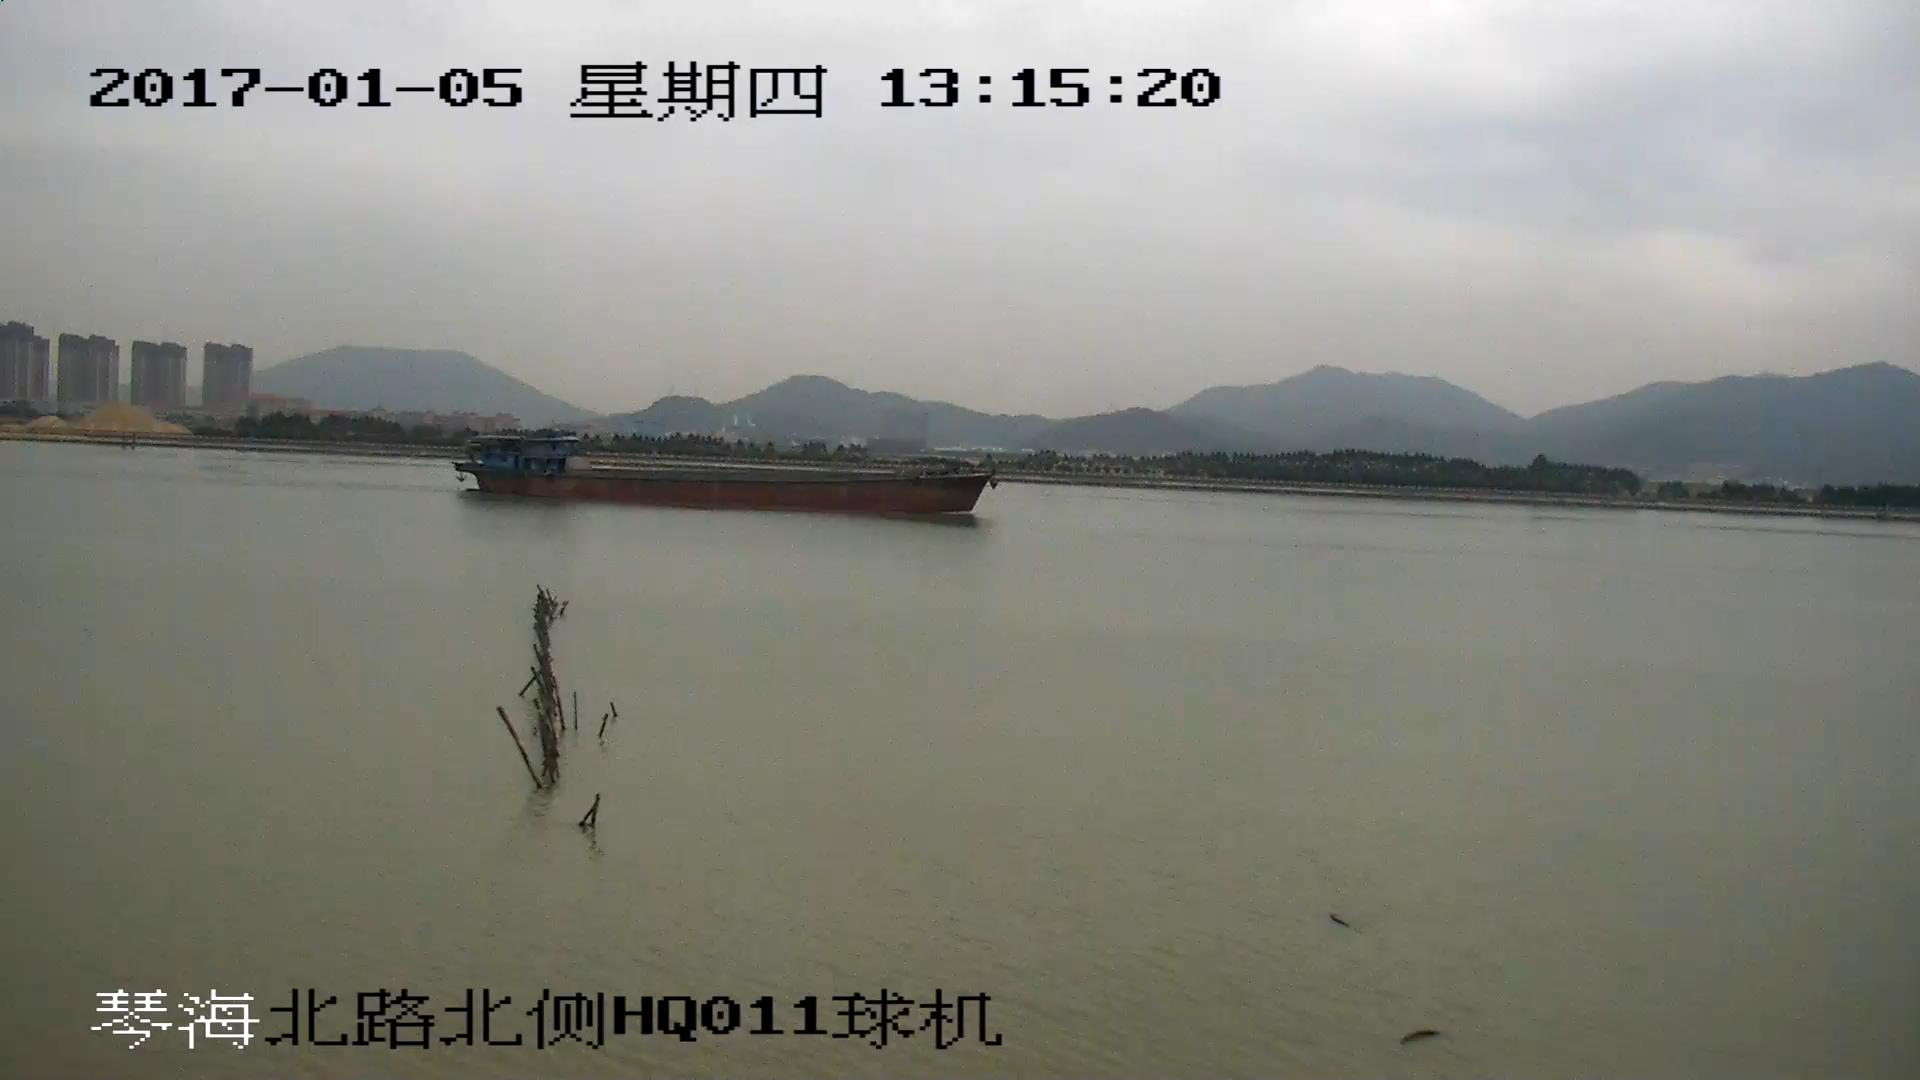bulk cargo carrier: (453, 435, 998, 516)
